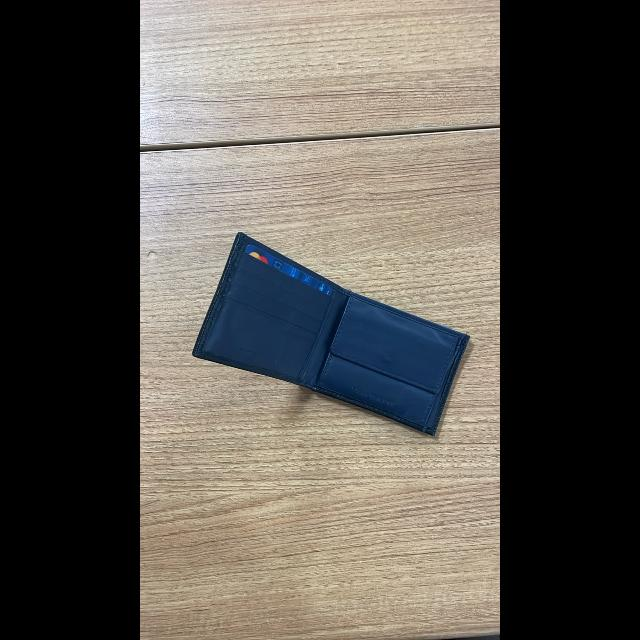wallet: (181, 205, 479, 458)
